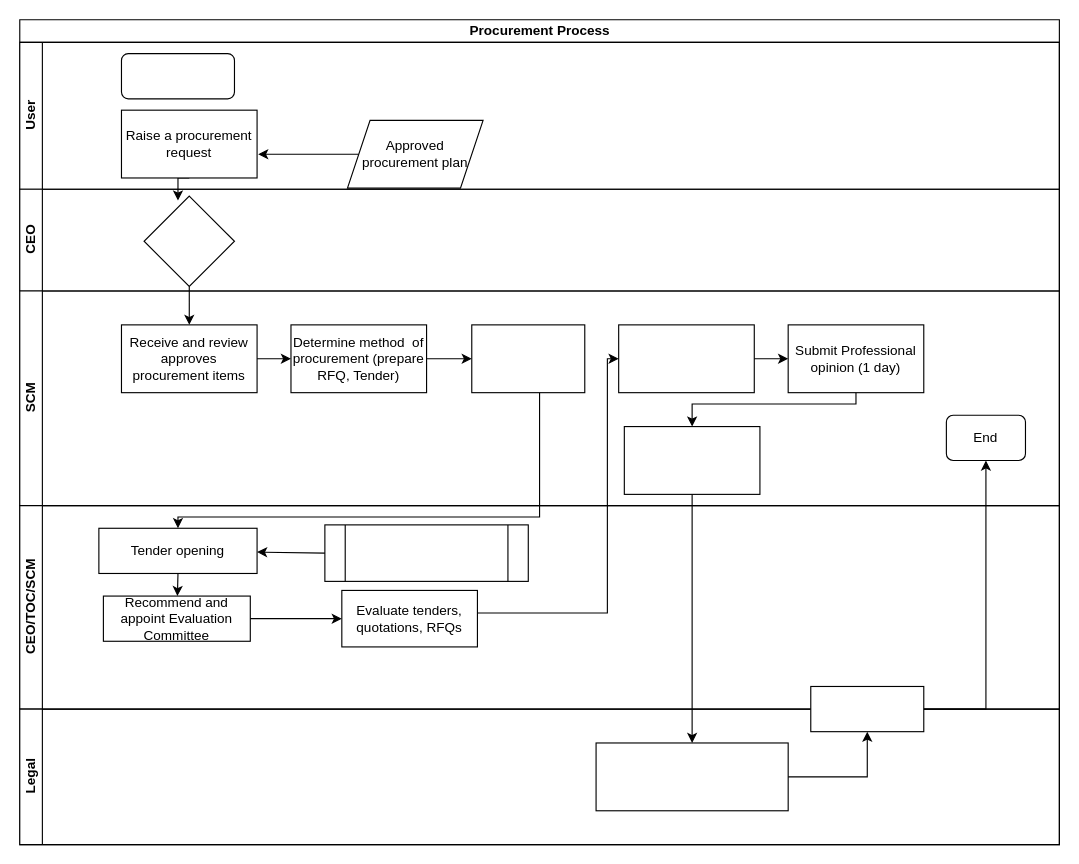
Some shapes in this 1079 by 864 pixel diagram are drawn without their labels. Here are the shapes that lost their labels. From the top down, the centre of each, then its label:
At [177,76]: "Start".
At [188,240]: "Approved?".
At [528,358]: "Open and close bids".
At [686,358]: "Receive evaluation report and write professional opinion".
At [691,459]: "Notification of tender outcome".
At [426,552]: "Recommend and appoint opening committee".
At [867,708]: "Contract approval".
At [691,776]: "Preparation of LPO/LSO/Contract and forward to finance to commit budget".
